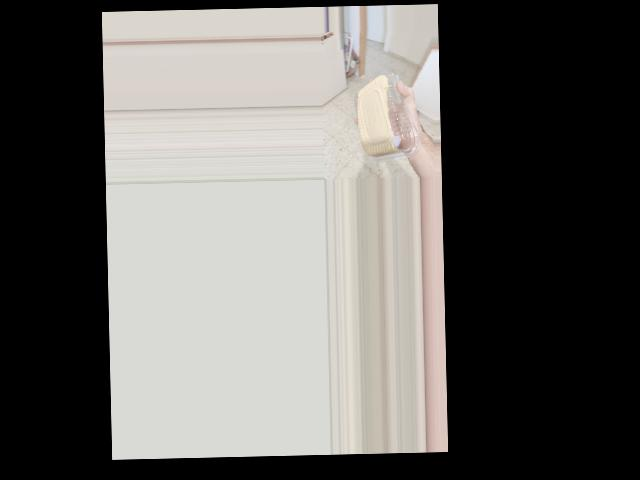cheese: (364, 91, 403, 167)
